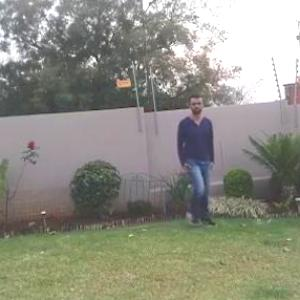follow: (162, 82, 222, 253)
